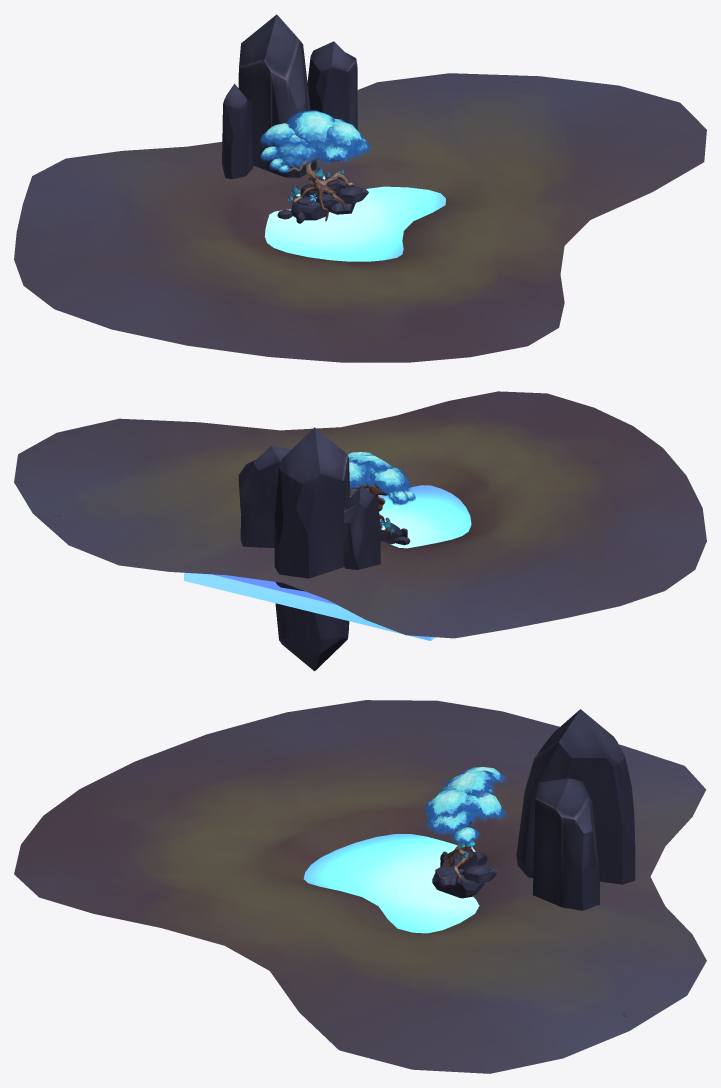
The model's file is jungle.glb.
3 renders of one model, top to bottom at view 1: azimuth 30°, elevation 25°; view 2: azimuth 150°, elevation 25°; view 3: azimuth 270°, elevation 25°, orthographic. The views are drawn at different scales.
Parts seen in each view (by area): view 1: lake; view 2: lake; view 3: lake.
Boxes of the visible parts, x1,y1,x2,y2 form: lake: [14, 14, 706, 362]; lake: [14, 391, 706, 671]; lake: [14, 700, 706, 1073].
Bounding box in the file's own units: 532 × 198 × 417.
Materials: 9 (8 with a texture image).
